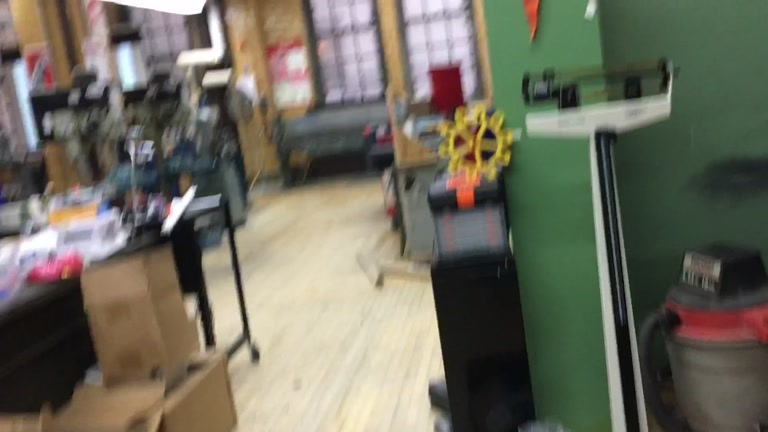gear: (435, 106, 513, 181)
